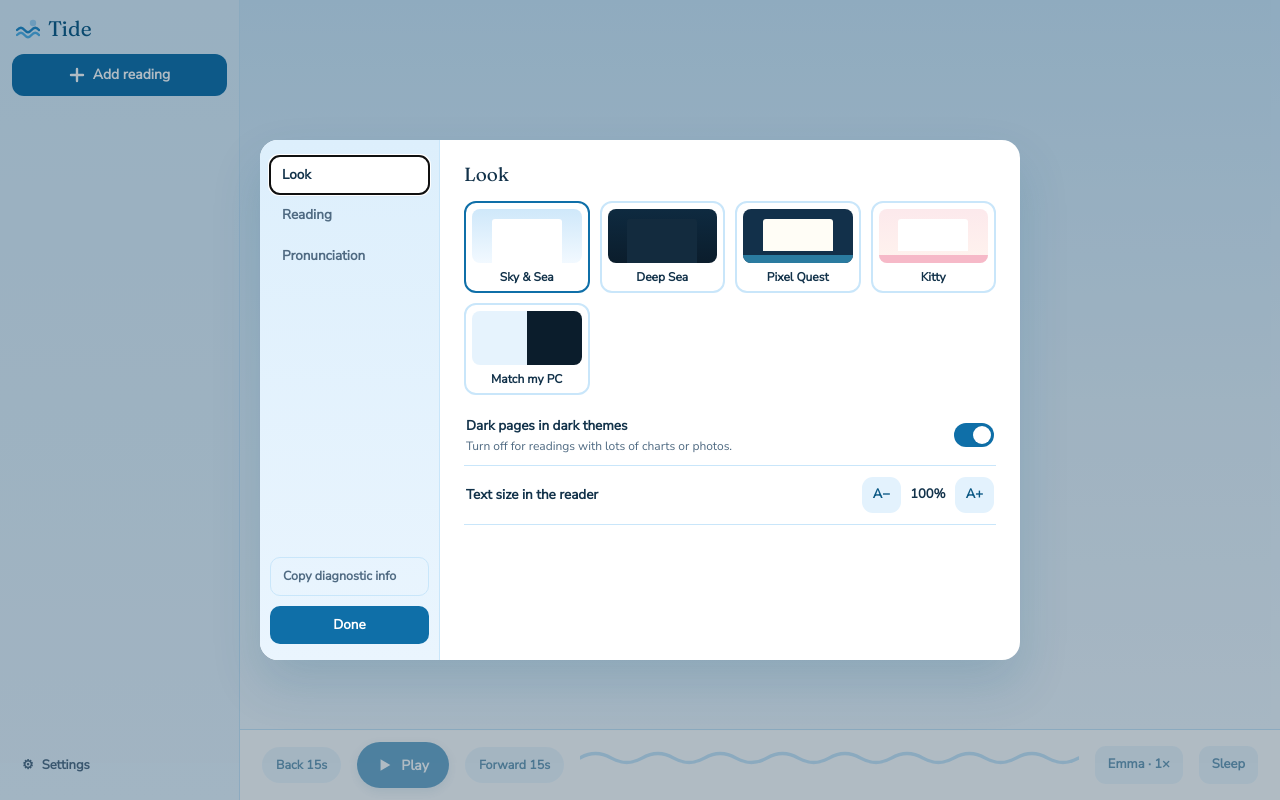
Settings dialog › a failed dark-pages change says so plainly
This screenshot has width=1280, height=800.
Click the switch named "Dark pages in dark themes": x=974, y=435 [954,417,994,453]
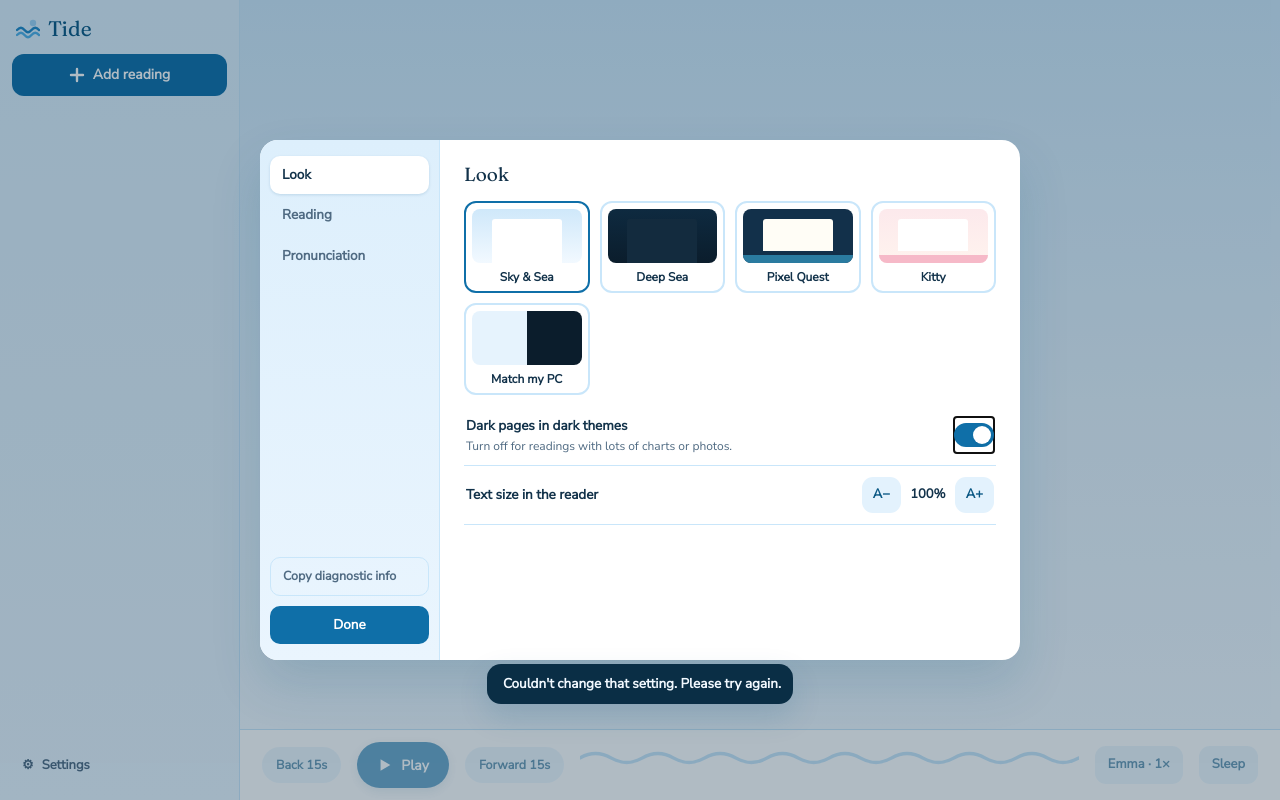
Expected: the text "Couldn't change that setting. Please try again." is shown, [503,674,781,694]
